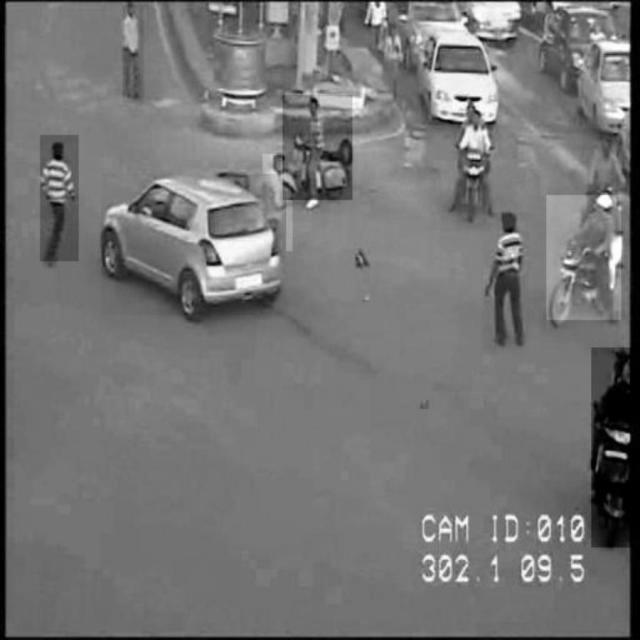person: (482, 212, 529, 350), (40, 136, 78, 262), (263, 154, 293, 252), (123, 5, 143, 103)
vehicle: (101, 174, 286, 315), (547, 195, 621, 319), (592, 348, 632, 548), (283, 95, 353, 199), (422, 30, 498, 124), (452, 100, 492, 216), (582, 44, 630, 128)
